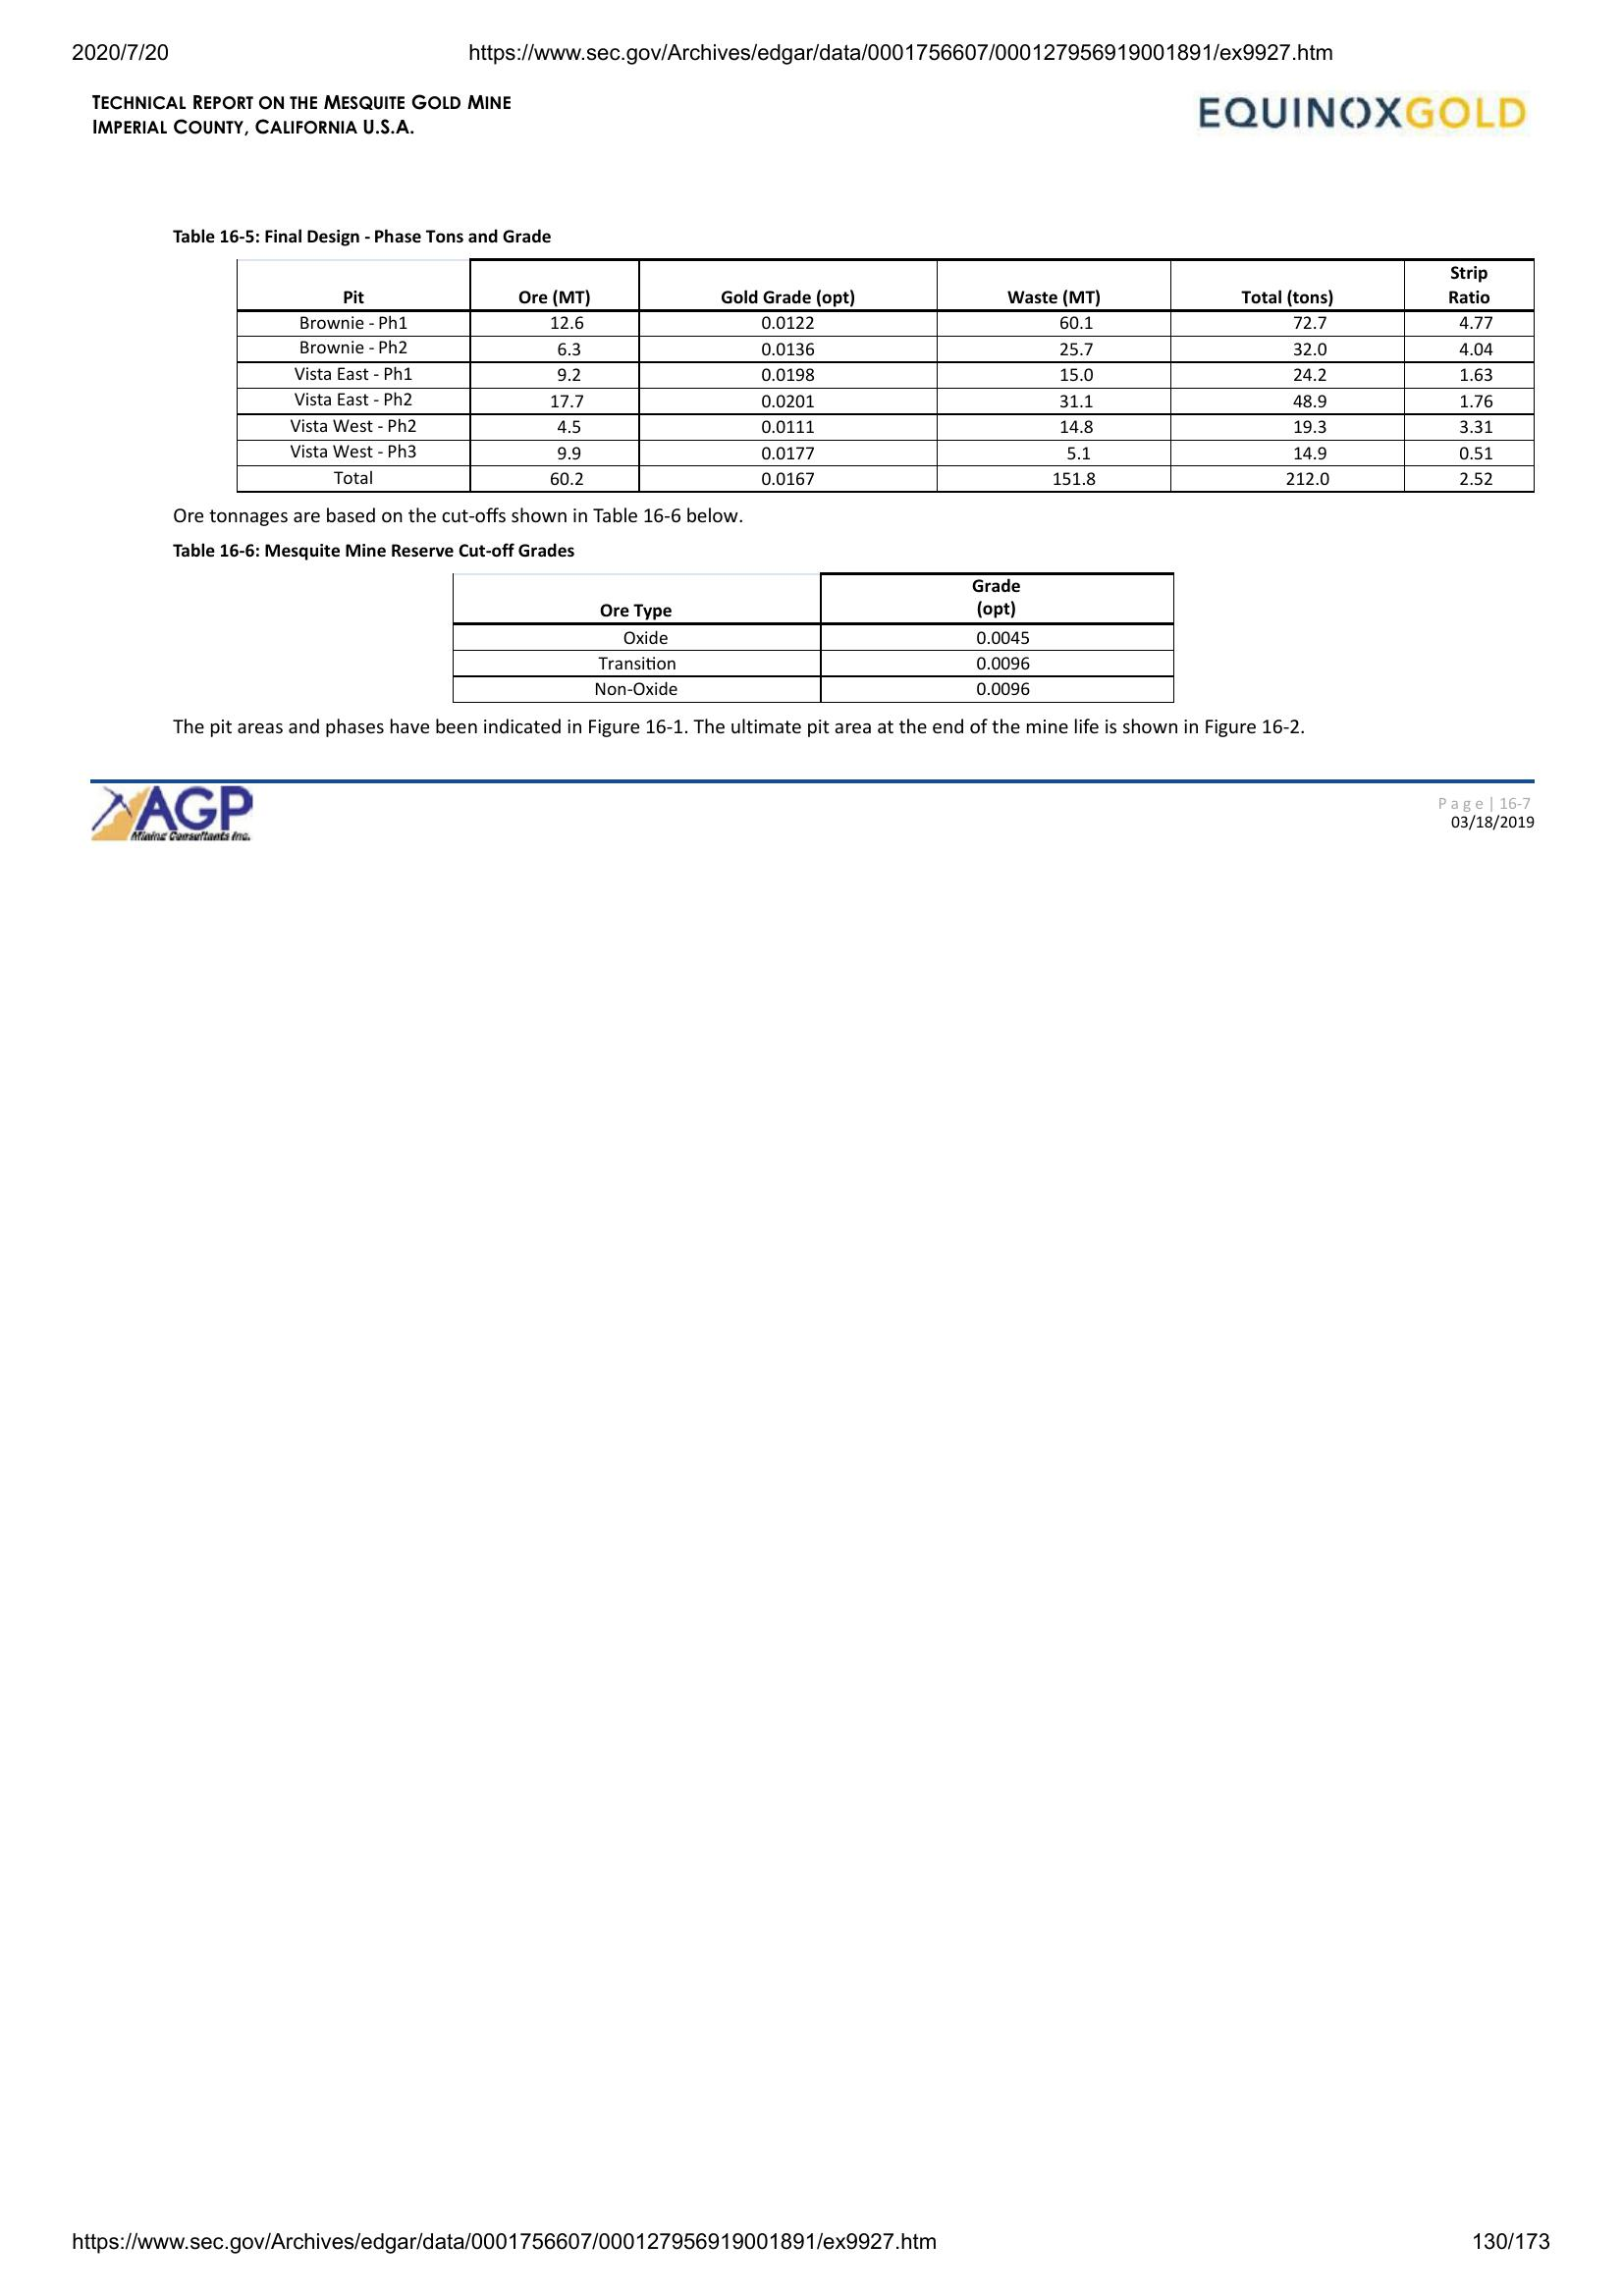table: (228, 251, 1544, 497), (446, 567, 1180, 707)
